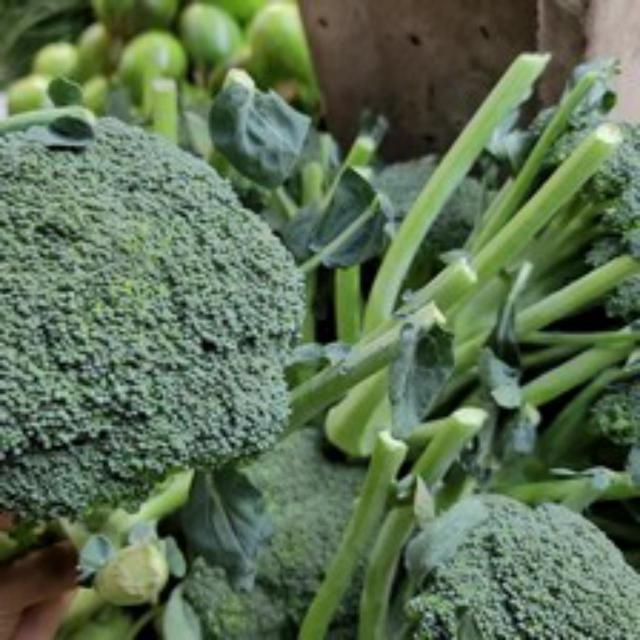broccoli: (0, 127, 312, 548)
